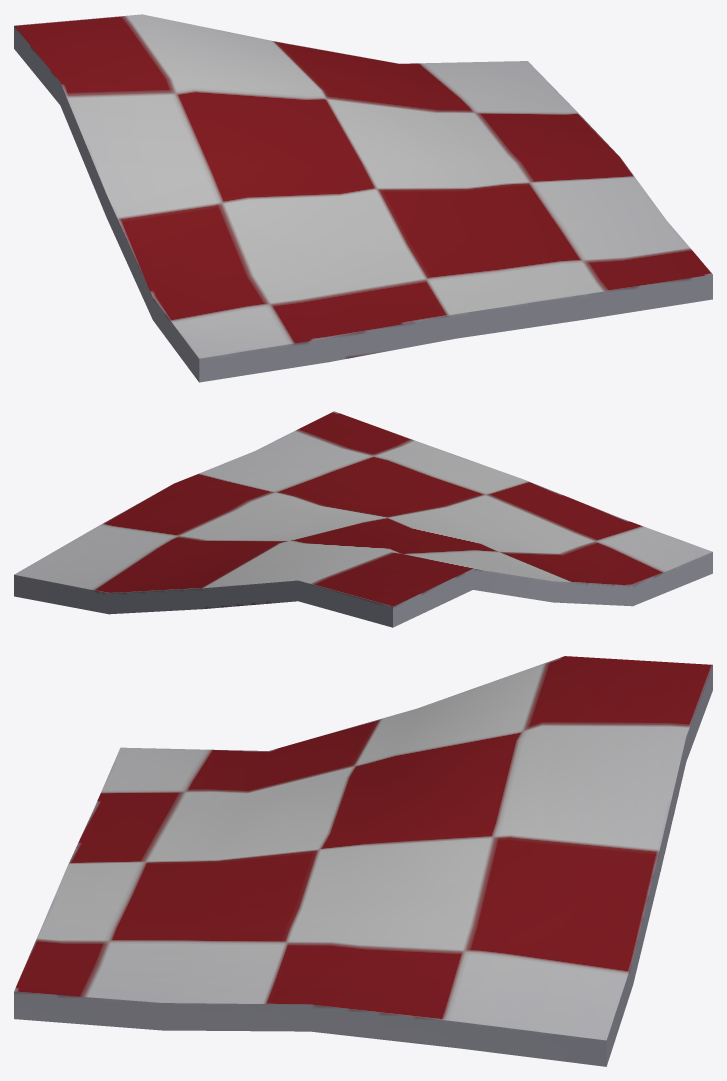
File: Servet_Los.fbx
3 renders of one model, top to bottom at view 1: azimuth 30°, elevation 25°; view 2: azimuth 150°, elevation 25°; view 3: azimuth 270°, elevation 25°, orthographic. The views are drawn at different scales.
Parts seen in each view (by area): view 1: Servet + paper bags.001; view 2: Servet + paper bags.001; view 3: Servet + paper bags.001.
Part boxes in pixels (bbox=[...]): Servet + paper bags.001: bbox=[14, 14, 712, 382]; Servet + paper bags.001: bbox=[14, 411, 712, 627]; Servet + paper bags.001: bbox=[14, 656, 712, 1066].
Size of the model in its own units: 0.2322 by 0.0565 by 0.2322.
